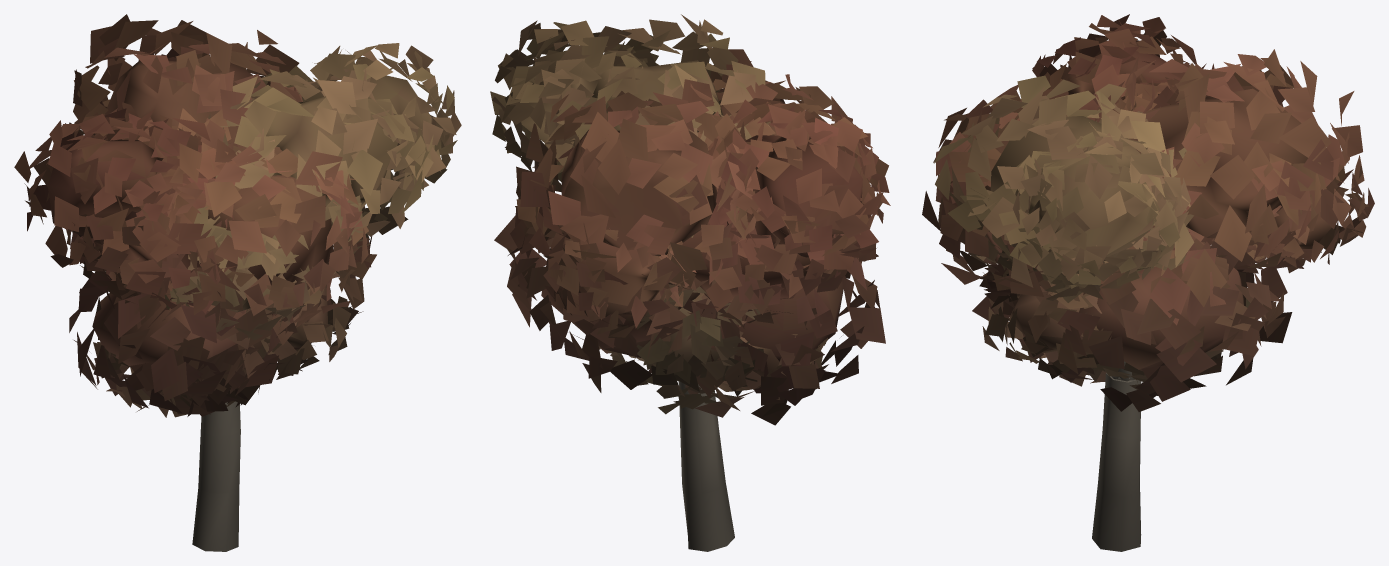
Rendered from lenga_b.glb.
The picture shows the model from 3 angles, left to right: view 1: azimuth 30°, elevation 25°; view 2: azimuth 150°, elevation 25°; view 3: azimuth 270°, elevation 25°; orthographic projection. The views are drawn at different scales.
Visible parts, largest first — view 1: LengaBHojas, LengaBCopa, LengaBTronco; view 2: LengaBHojas, LengaBCopa, LengaBTronco; view 3: LengaBHojas, LengaBCopa, LengaBTronco.
Part boxes in pixels (box(x1,y1,x2,y2)): LengaBHojas: box(14, 14, 461, 417); LengaBCopa: box(47, 60, 432, 382); LengaBTronco: box(192, 401, 240, 551); LengaBHojas: box(490, 14, 890, 425); LengaBCopa: box(521, 50, 862, 391); LengaBTronco: box(678, 381, 734, 551); LengaBHojas: box(922, 14, 1374, 411); LengaBCopa: box(985, 51, 1337, 370); LengaBTronco: box(1092, 361, 1141, 551).
Size of what is drawn, in the model's own units: 4.25 by 4.71 by 3.94.
